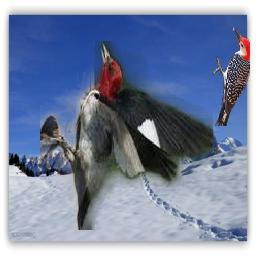Woodpecker: (41, 42, 214, 231), (212, 28, 251, 127)
